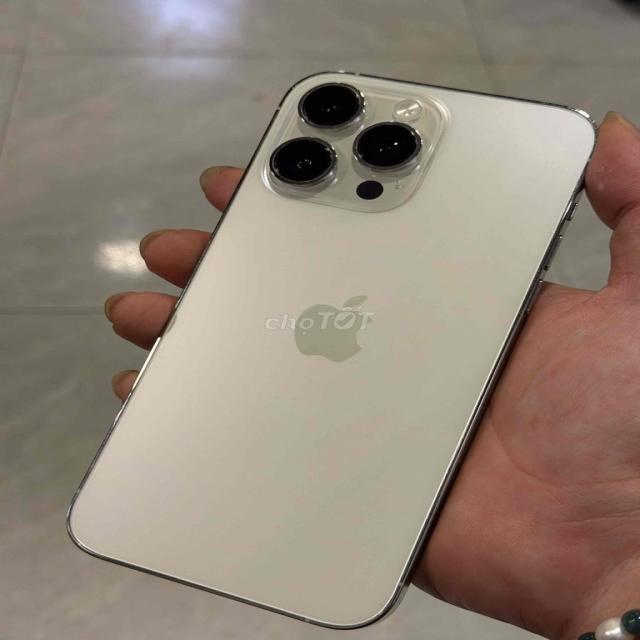gen_14: (64, 56, 596, 635)
